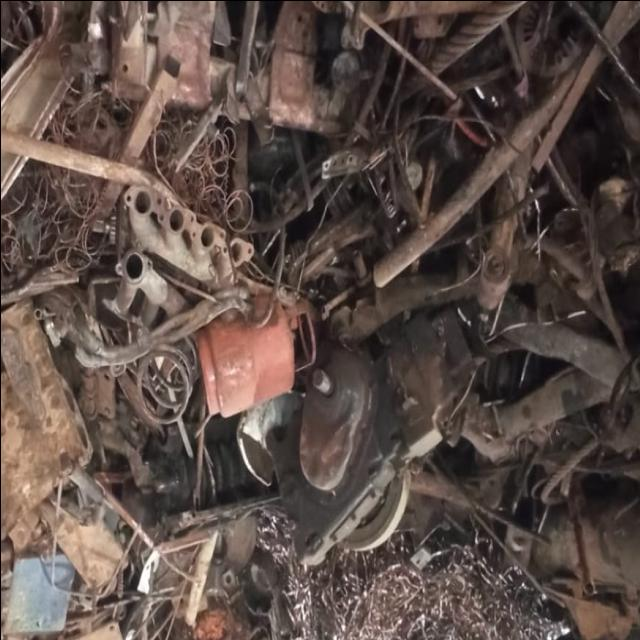cylinder: (195, 298, 316, 417)
